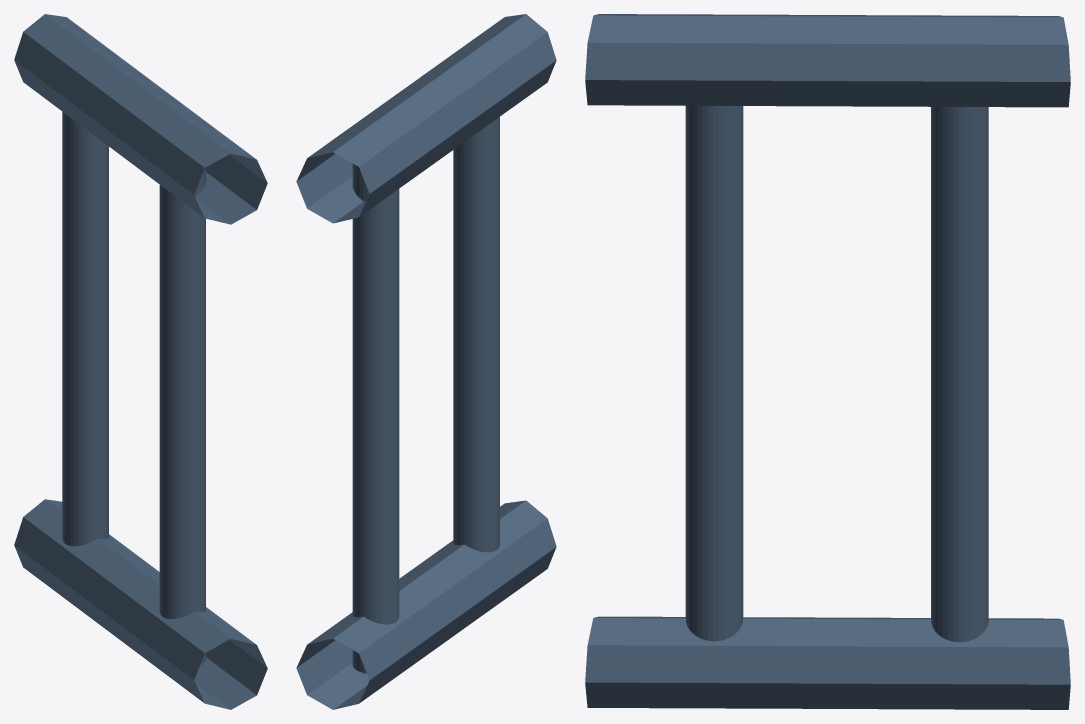
File: CagePart.fbx
3 views of the same model, side by side, from view 1: azimuth 30°, elevation 25°; view 2: azimuth 150°, elevation 25°; view 3: azimuth 270°, elevation 25° (orthographic). The views are drawn at different scales.
Visible parts, largest first — view 1: Torus.004, Cylinder.003, Cylinder.002, Torus.005; view 2: Torus.004, Cylinder.002, Torus.005, Cylinder.003; view 3: Torus.004, Torus.005, Cylinder.003, Cylinder.002.
Boxes of the visible parts, box(x1,y1,x2,y2) form: Torus.004: box(14, 14, 267, 224); Cylinder.003: box(159, 167, 205, 665); Cylinder.002: box(62, 112, 108, 546); Torus.005: box(14, 499, 267, 709); Torus.004: box(296, 14, 556, 223); Cylinder.002: box(352, 163, 399, 673); Torus.005: box(296, 500, 556, 709); Cylinder.003: box(453, 117, 499, 552); Torus.004: box(585, 14, 1070, 107); Torus.005: box(585, 616, 1070, 709); Cylinder.003: box(685, 105, 743, 641); Cylinder.002: box(931, 107, 988, 642).
Bounding box in the file's own units: 20.75 × 156 × 99.49.
